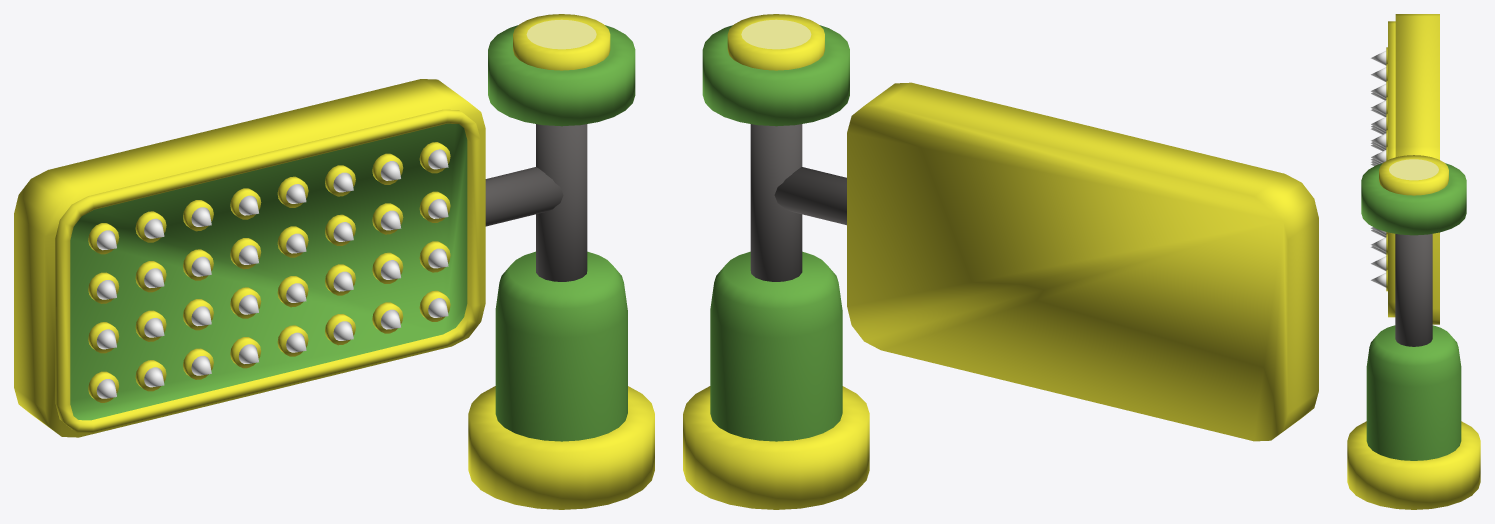
File: Obstacle 13 V2.fbx
3 views of the same model, side by side, from view 1: azimuth 30°, elevation 25°; view 2: azimuth 150°, elevation 25°; view 3: azimuth 270°, elevation 25° (orthographic). The views are drawn at different scales.
Parts seen in each view (by area): view 1: O13 Part 1, O13 Part 2; view 2: O13 Part 1, O13 Part 2; view 3: O13 Part 2, O13 Part 1.
Boxes of the visible parts, left/top/right/bottom form: O13 Part 1: left=14, top=79, right=587, bottom=437; O13 Part 2: left=468, top=14, right=654, bottom=509; O13 Part 1: left=750, top=82, right=1318, bottom=441; O13 Part 2: left=683, top=14, right=869, bottom=509; O13 Part 2: left=1347, top=155, right=1480, bottom=509; O13 Part 1: left=1371, top=14, right=1439, bottom=346.
Size of the model in its own units: 170 by 116 by 45.05.
1 material, 1 textured.
